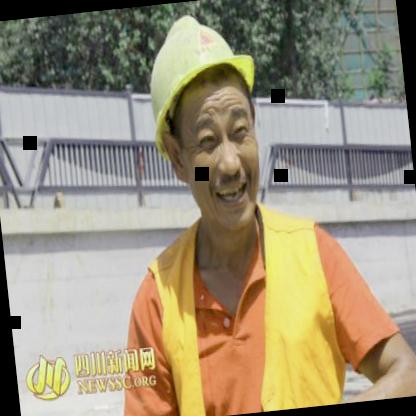helmet: (125, 0, 284, 253)
